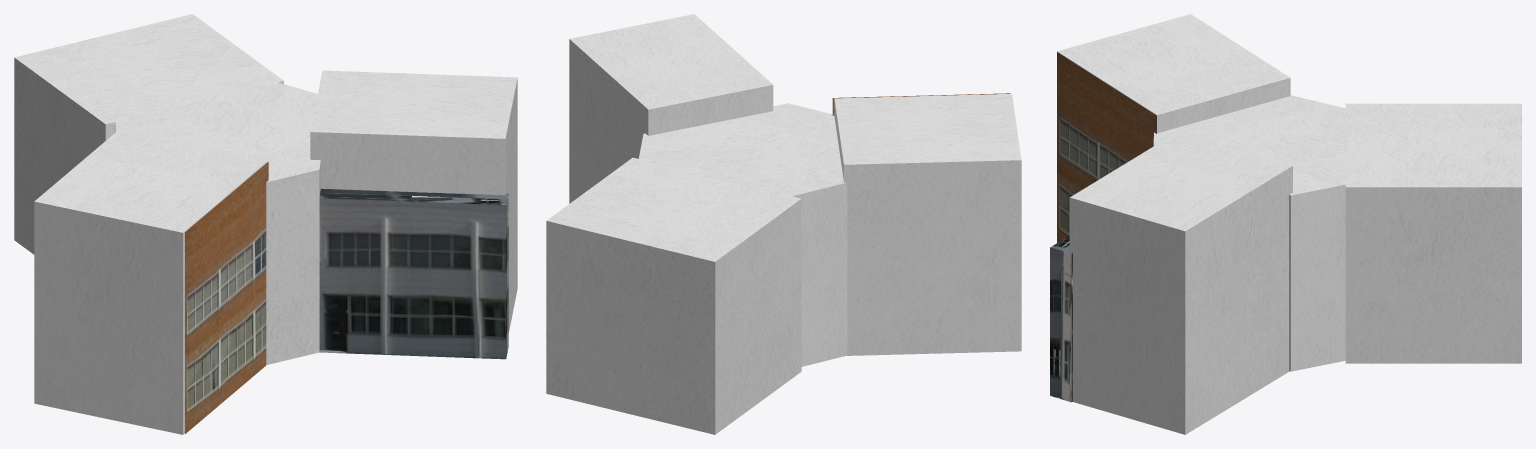
The model's file is FrenteC3.obj.
3 renders of one model, left to right at view 1: azimuth 30°, elevation 25°; view 2: azimuth 150°, elevation 25°; view 3: azimuth 270°, elevation 25°, orthographic. The views are drawn at different scales.
Parts seen in each view (by area): view 1: FrenteC3_Cone.013; view 2: FrenteC3_Cone.013; view 3: FrenteC3_Cone.013.
Part boxes in pixels (<box>): FrenteC3_Cone.013: <box>14,14,517,434</box>; FrenteC3_Cone.013: <box>546,14,1021,434</box>; FrenteC3_Cone.013: <box>1050,14,1521,434</box>.
Bounding box in the file's own units: 28.68 × 12.05 × 25.3.
